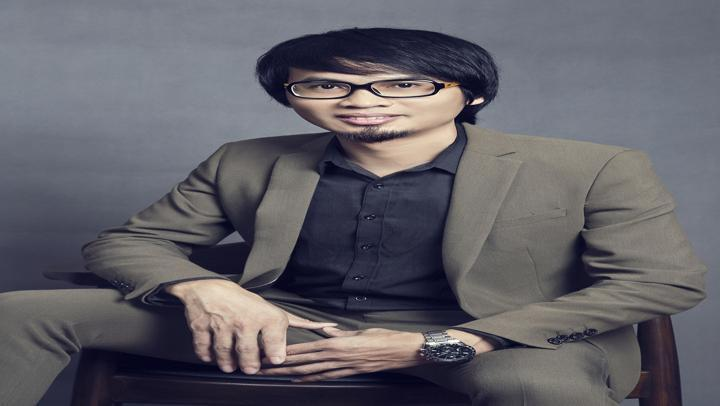safetyhat: (70, 30, 664, 380)
